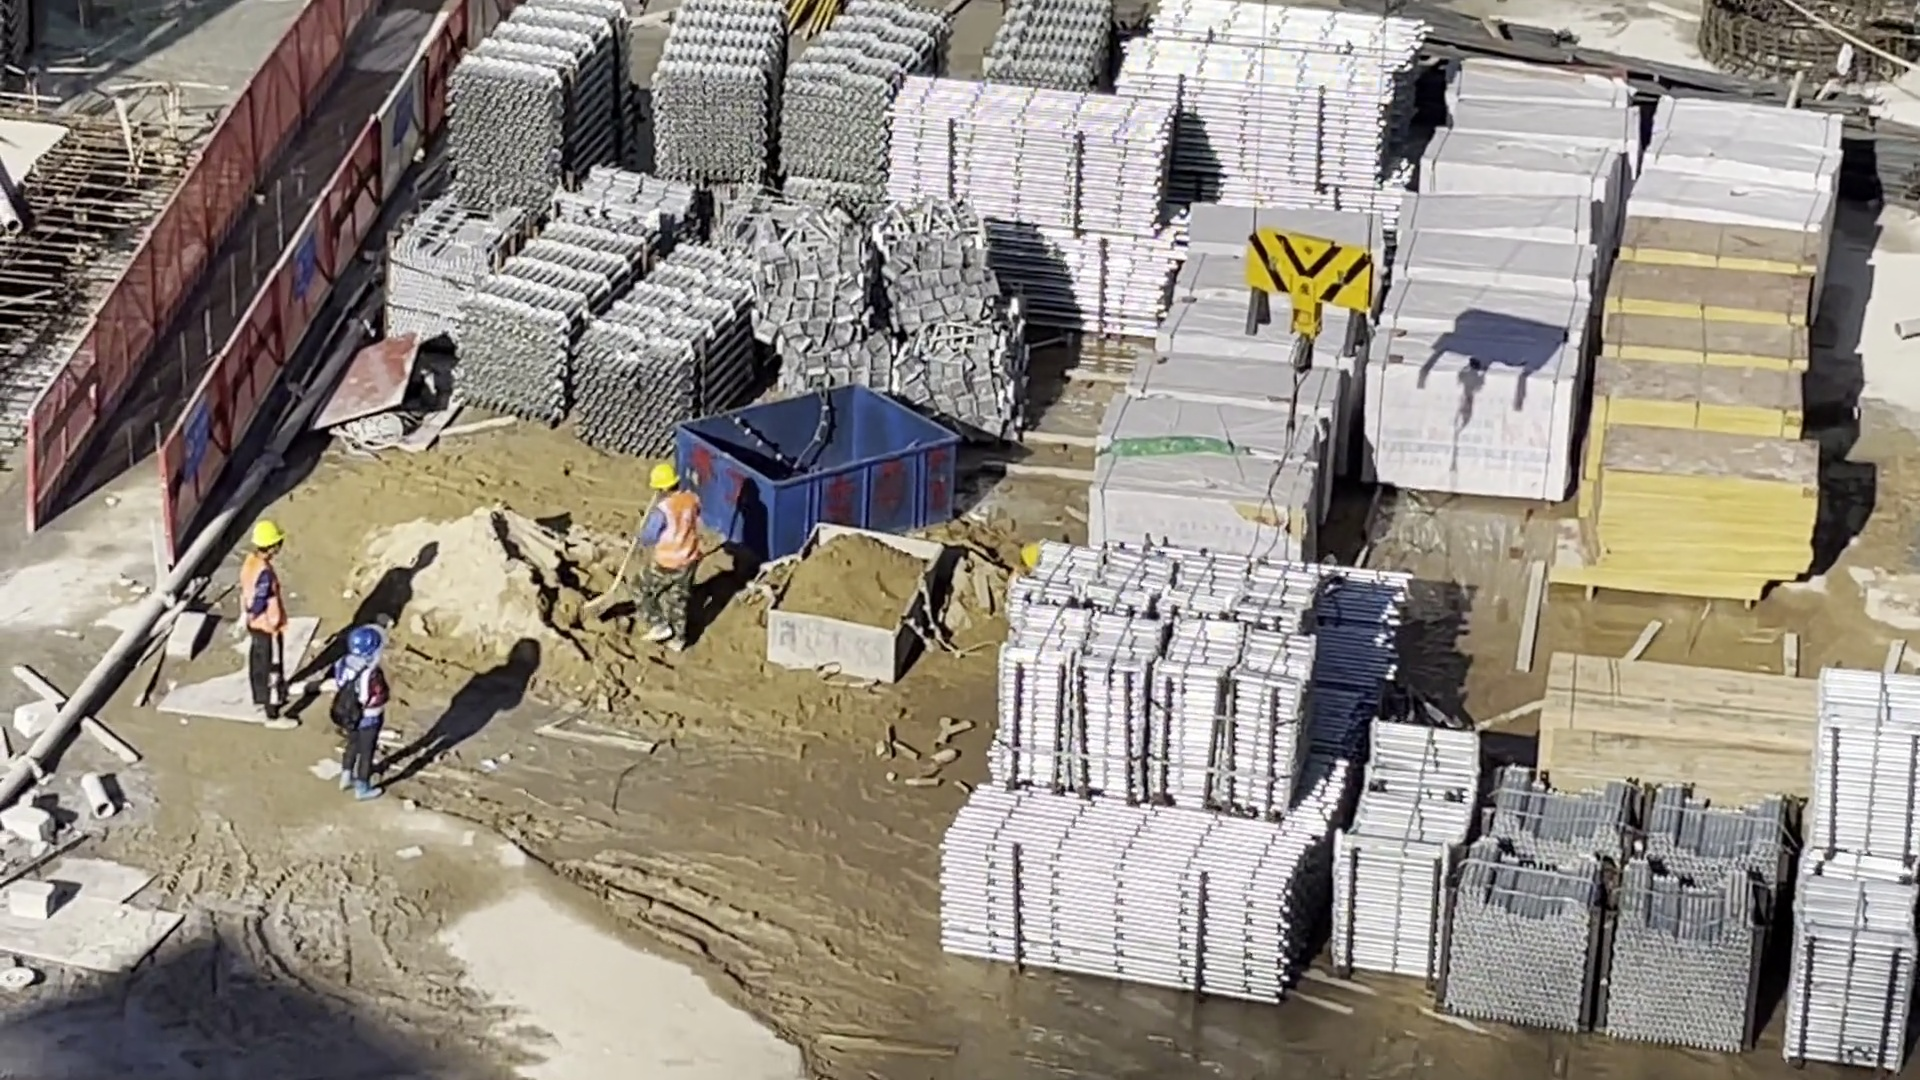fence: (30, 3, 441, 533)
helmet: (244, 512, 297, 560), (341, 624, 385, 663), (640, 468, 690, 499)
hook: (1215, 208, 1401, 358)
hopper: (666, 367, 965, 513), (756, 504, 942, 668)
person: (227, 511, 321, 751), (621, 461, 697, 637), (326, 620, 400, 801)
scaffold: (951, 560, 1483, 1000), (1501, 737, 1778, 1045), (890, 76, 1153, 357), (659, 1, 883, 228), (1129, 11, 1384, 207), (1802, 632, 1910, 1073), (532, 179, 675, 424), (431, 5, 560, 158), (1002, 6, 1101, 92)
vest: (653, 498, 698, 573), (237, 553, 277, 622)
